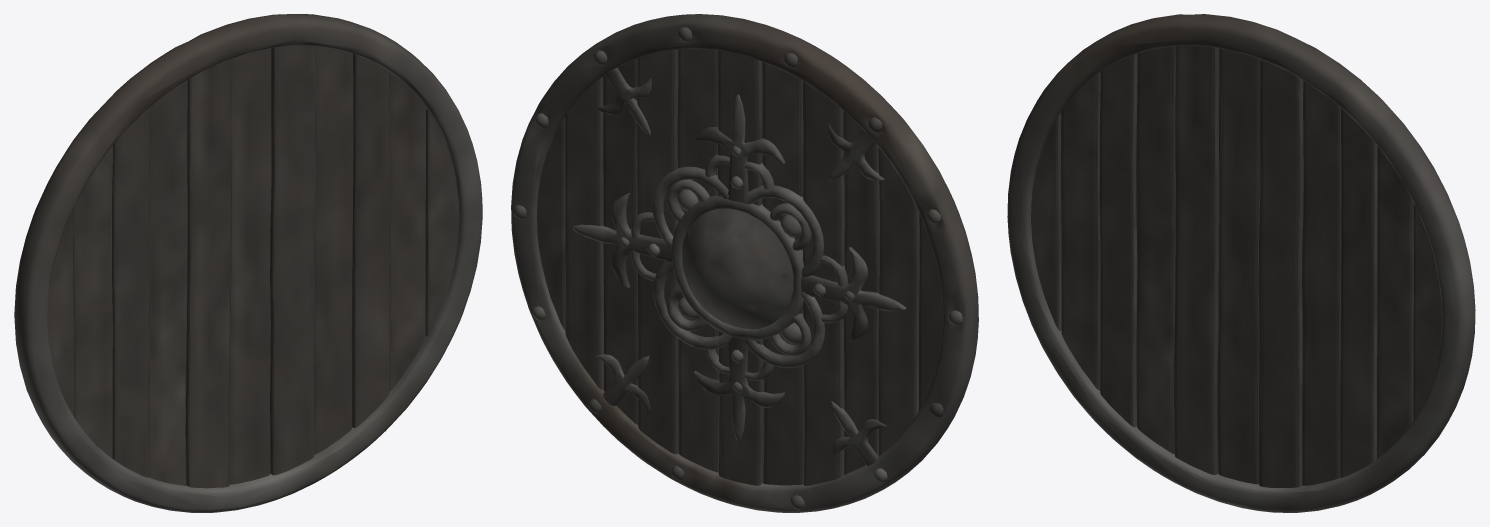
Rendered from Wall_Shield_01.fbx.
3 renders of one model, left to right at view 1: azimuth 30°, elevation 25°; view 2: azimuth 150°, elevation 25°; view 3: azimuth 330°, elevation 25°, orthographic.
Parts seen in each view (by area): view 1: Wall_Shield_Wood, Wall_Shield_Metall; view 2: Wall_Shield_Wood, Wall_Shield_Metall; view 3: Wall_Shield_Wood, Wall_Shield_Metall.
Part boxes in pixels (x1,y1,x2,y2): Wall_Shield_Wood: (48,46,459,488); Wall_Shield_Metall: (14,14,482,512); Wall_Shield_Wood: (537,49,942,485); Wall_Shield_Metall: (511,14,978,512); Wall_Shield_Wood: (1031,46,1441,487); Wall_Shield_Metall: (1007,14,1475,512).
Size of what is drawn, in the model's own units: 79.31 by 79.3 by 8.53.
